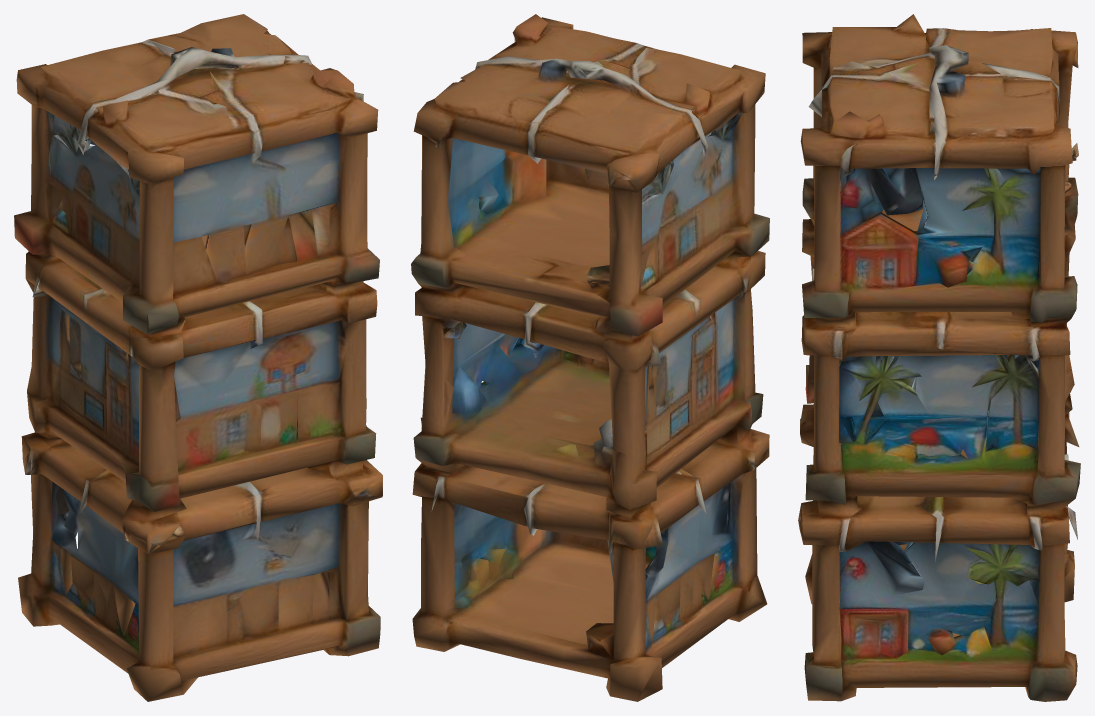
The model's file is lib-traps.glb.
The picture shows the model from 3 angles, left to right: view 1: azimuth 30°, elevation 25°; view 2: azimuth 150°, elevation 25°; view 3: azimuth 270°, elevation 25°; orthographic projection. The views are drawn at different scales.
Visible parts, largest first — view 1: tripo_node_814509a2-7a52-473d-8a77-2cad329ec2ea; view 2: tripo_node_814509a2-7a52-473d-8a77-2cad329ec2ea; view 3: tripo_node_814509a2-7a52-473d-8a77-2cad329ec2ea.
Part boxes in pixels (bbox=[...]): tripo_node_814509a2-7a52-473d-8a77-2cad329ec2ea: bbox=[14, 14, 382, 701]; tripo_node_814509a2-7a52-473d-8a77-2cad329ec2ea: bbox=[411, 14, 769, 701]; tripo_node_814509a2-7a52-473d-8a77-2cad329ec2ea: bbox=[798, 14, 1080, 701].
Bounding box in the file's own units: 0.4477 × 0.9977 × 0.4311.
1 material, 1 textured.
